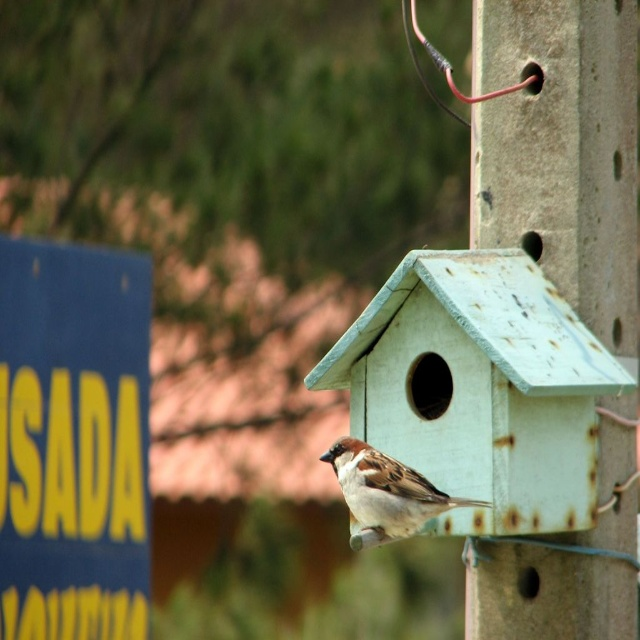Sparrow: (319, 436, 493, 538)
